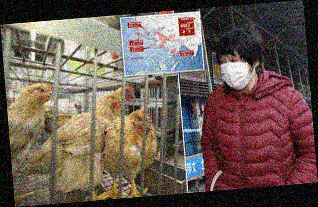with_mask: (217, 52, 253, 91)
